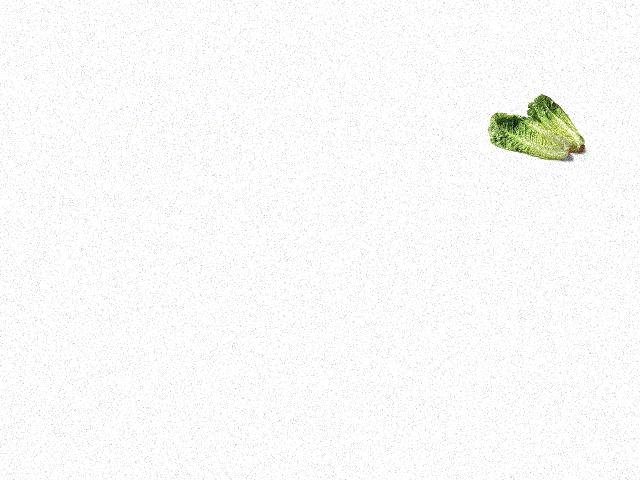lettuce: (526, 93, 589, 155)
